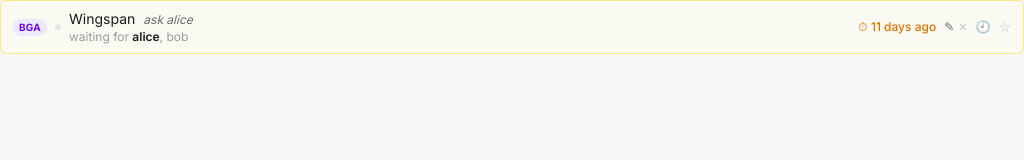
Test: GameRow › still opens the editor from the pencil button when a note already exists
Step 1. Click the button named "edit the note" → (949,27), box [944,19,954,35]
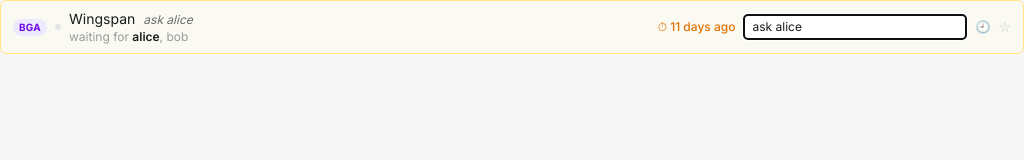
Expected: the field holds "ask alice", [744,14,968,40]
